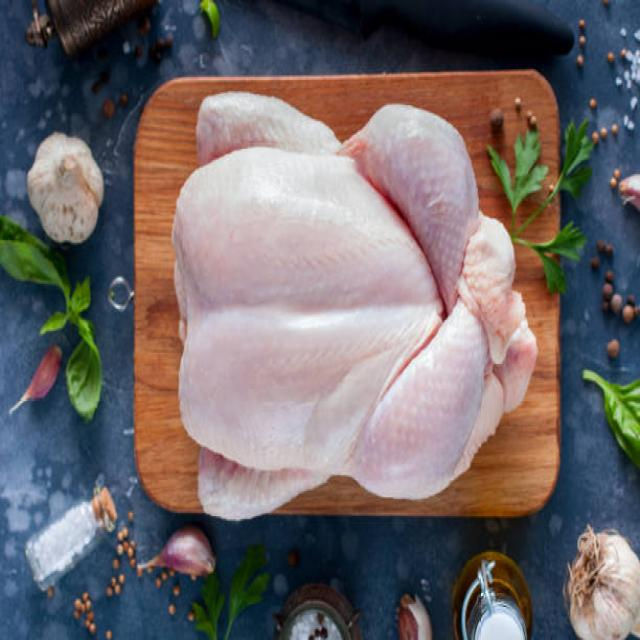Chicken: (168, 82, 548, 529)
